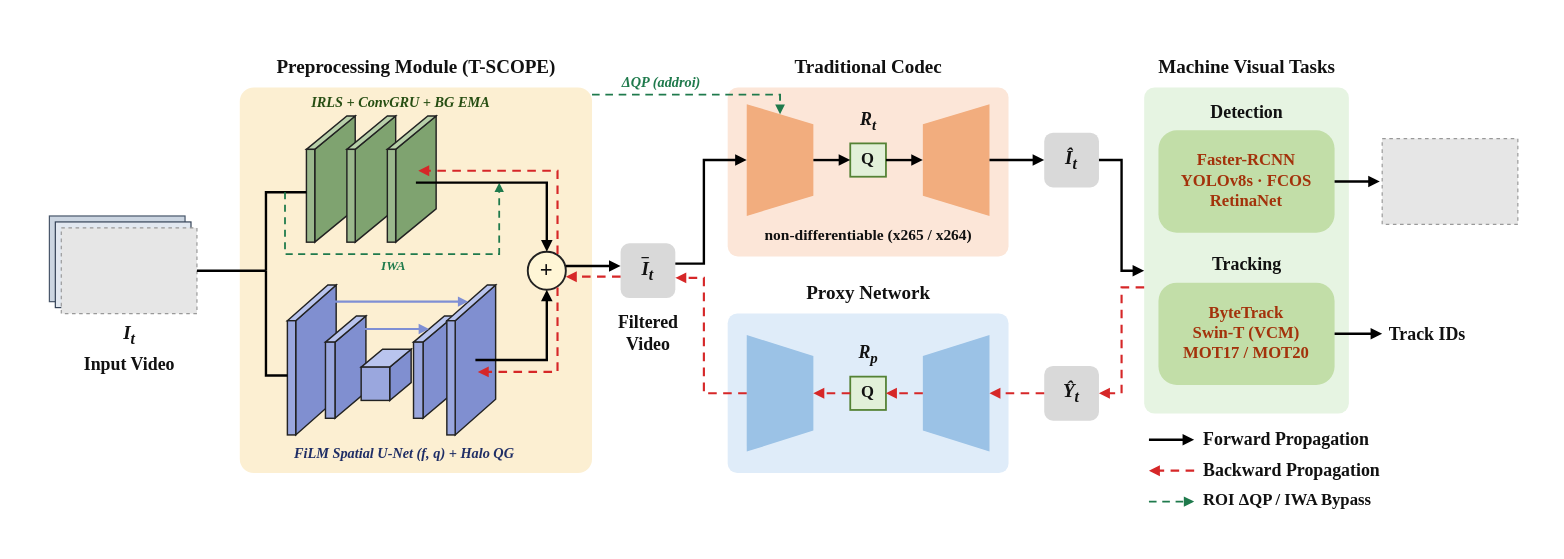
Image size: 1564x559. Some labels were removed from this diagram. Grey dashed boxes stand in for pictures. Each missing label, with the centre of its shape:
"Decoder" goes at pixel 955 159.
"Encoder" goes at pixel 779 159.
"IDCT Decoder" goes at pixel 955 392.
"MC+DCT Encoder" goes at pixel 779 392.
